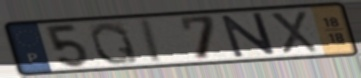5: (41, 21, 93, 69)
7: (179, 15, 221, 62)
I: (140, 17, 167, 66)
N: (218, 11, 278, 60)
Q: (87, 20, 142, 66)
X: (266, 10, 322, 55)
